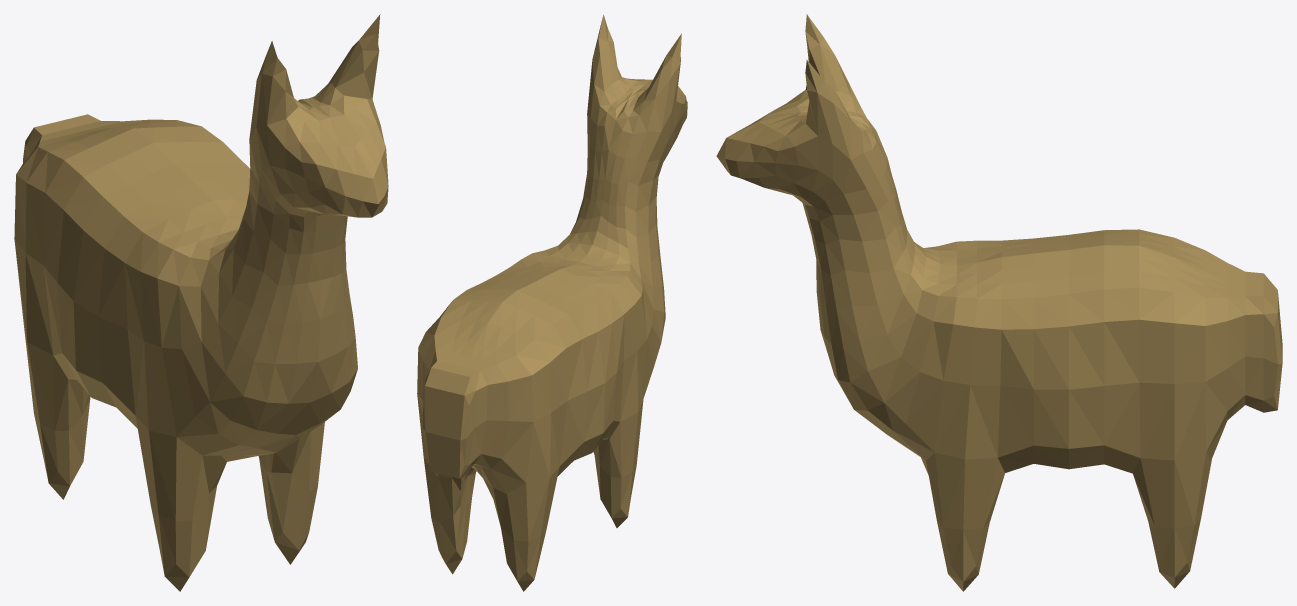
Rendered from llama.dae.
The picture shows the model from 3 angles, left to right: view 1: azimuth 30°, elevation 25°; view 2: azimuth 150°, elevation 25°; view 3: azimuth 270°, elevation 25°; orthographic projection. The views are drawn at different scales.
Visible parts, largest first — view 1: Cube; view 2: Cube; view 3: Cube.
Part boxes in pixels (x1=…): Cube: x1=14, y1=14, x2=388, y2=591; Cube: x1=417, y1=14, x2=687, y2=591; Cube: x1=716, y1=14, x2=1282, y2=591.
Size of the model in its own units: 1.42 by 4.02 by 4.17.
